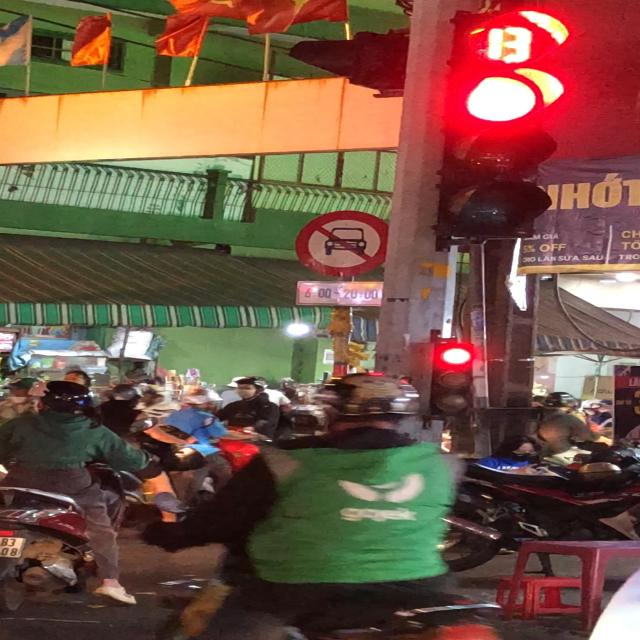Bien bao cam xe oto: (290, 208, 392, 278)
